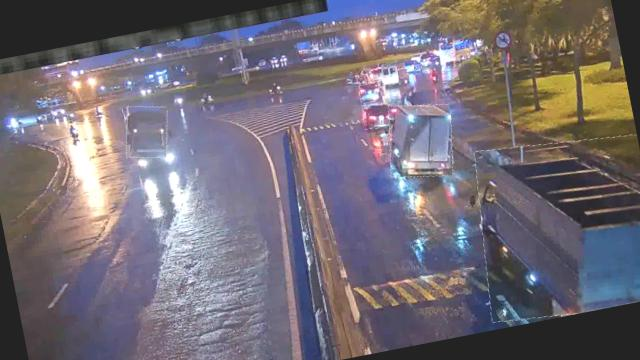Car: (361, 100, 392, 130), (358, 80, 387, 104)
Truck: (463, 123, 640, 328), (380, 97, 460, 183), (120, 100, 174, 162)
